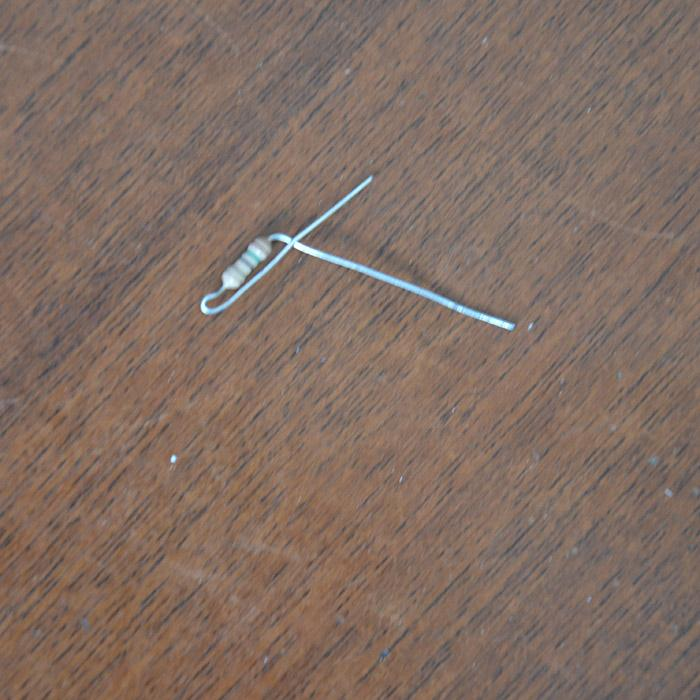resistor: (219, 236, 276, 290)
